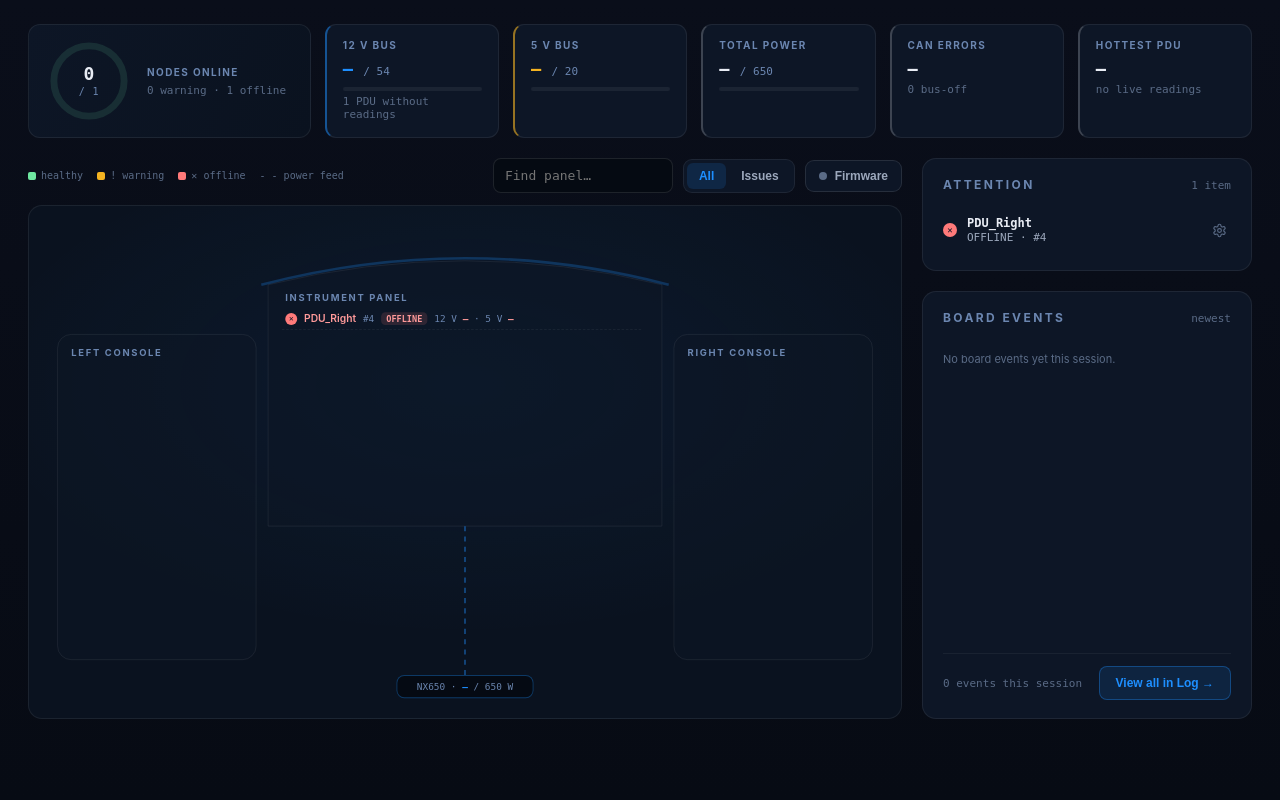
T8 Board panel footer: PDU (B73, B9, B10, X8) › a PDU feeding nothing: the note leaves the boards out
The image size is (1280, 800).
Click the button titled "PDU_Right — power zone details".
click(462, 320)  # box [282,310,641,330]
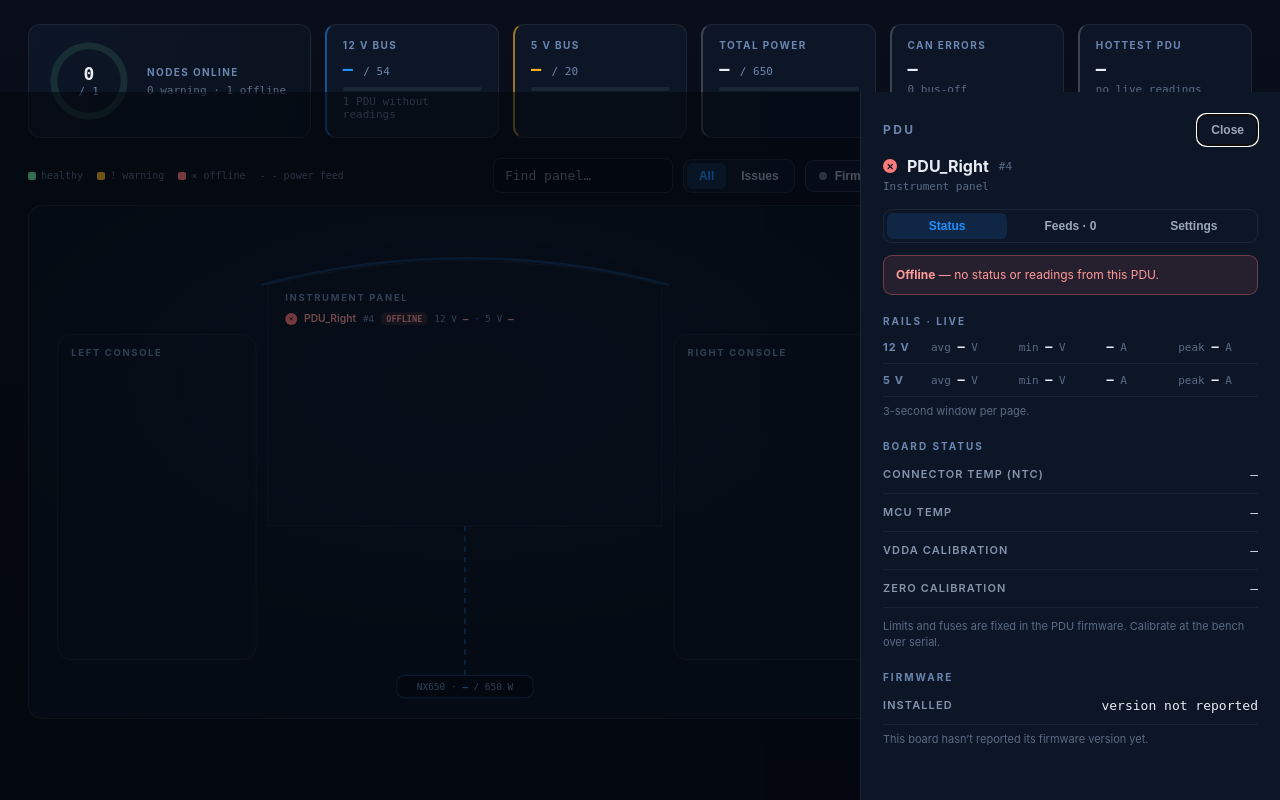
Click the tab "Settings".
click(1194, 226)  # box [1134,213,1254,239]
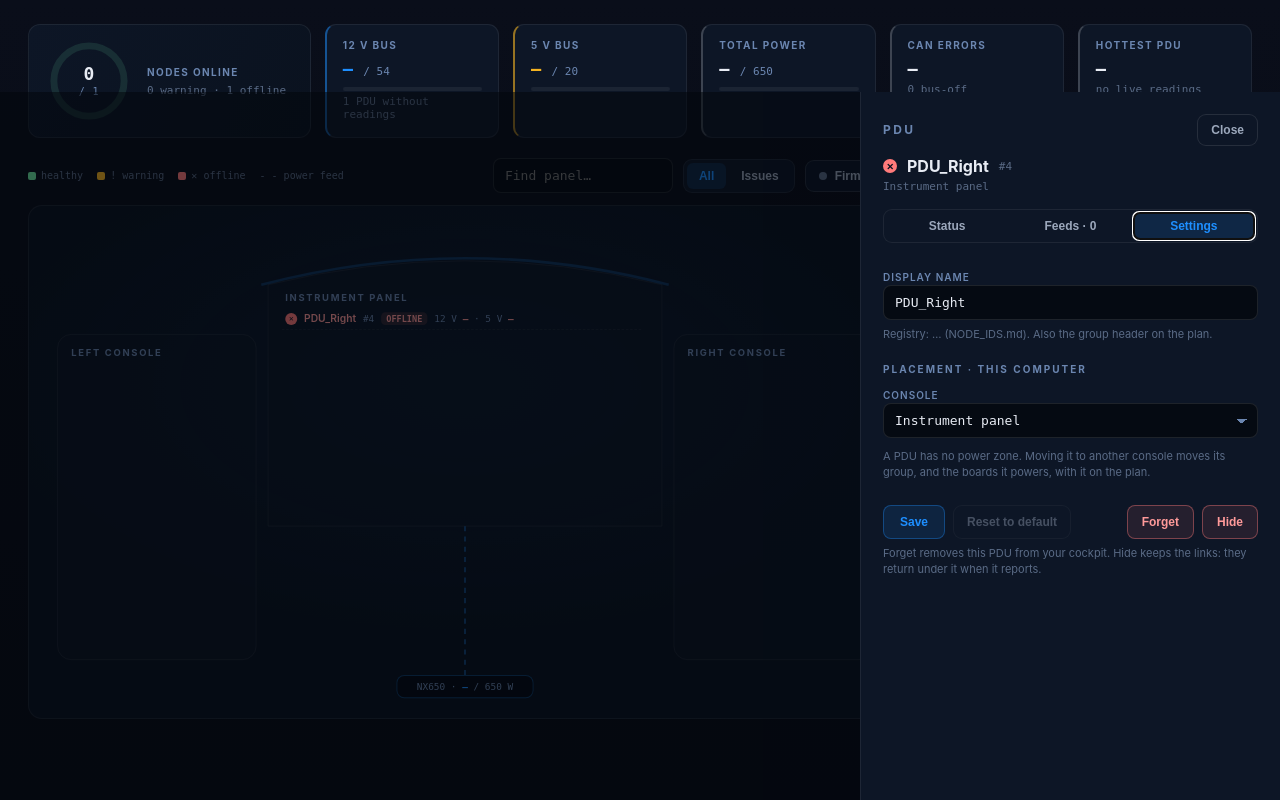
Expected: the text "Forget removes this PDU from your cockpit. Hide keeps the links: they return under it when it reports." is shown, [883,546,1246,576]
